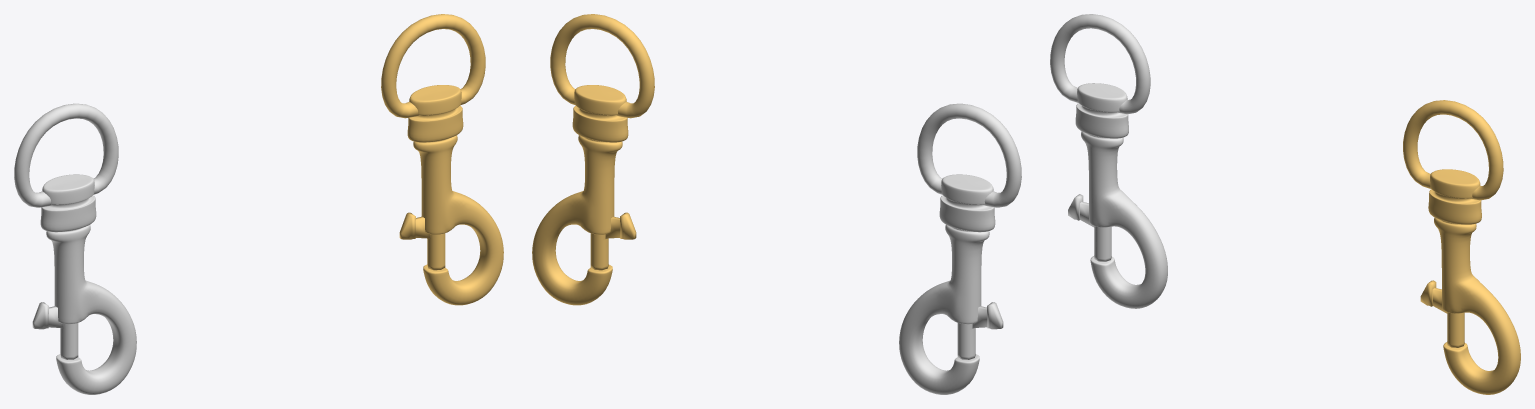
File: metal_clasp (1).glb
3 renders of one model, left to right at view 1: azimuth 30°, elevation 25°; view 2: azimuth 150°, elevation 25°; view 3: azimuth 330°, elevation 25°, orthographic. The views are drawn at different scales.
Visible parts, largest first — view 1: Clasp_3, Clasp.001_1, Keyring_5, Keyring.001_2, Barrel.001_0, Barrel_4; view 2: Clasp_3, Clasp.001_1, Keyring_5, Keyring.001_2, Barrel_4, Barrel.001_0; view 3: Clasp_3, Clasp.001_1, Keyring_5, Keyring.001_2, Barrel.001_0, Barrel_4.
Part boxes in pixels (box(x1,y1,x2,y2)): Clasp_3: box(40, 174, 136, 394); Clasp.001_1: box(407, 85, 503, 305); Keyring_5: box(14, 103, 118, 207); Keyring.001_2: box(381, 14, 485, 118); Barrel.001_0: box(399, 212, 445, 270); Barrel_4: box(32, 302, 78, 359); Clasp_3: box(899, 174, 995, 394); Clasp.001_1: box(532, 85, 628, 305); Keyring_5: box(917, 103, 1021, 207); Keyring.001_2: box(550, 14, 654, 118); Barrel_4: box(957, 302, 1003, 359); Barrel.001_0: box(590, 212, 636, 270); Clasp_3: box(1075, 83, 1167, 308); Clasp.001_1: box(1428, 169, 1520, 394); Keyring_5: box(1050, 14, 1150, 114); Keyring.001_2: box(1403, 100, 1503, 200); Barrel.001_0: box(1420, 280, 1464, 347); Barrel_4: box(1068, 194, 1111, 261).
Bounding box in the file's own units: 3.48 × 2.01 × 0.2189.
